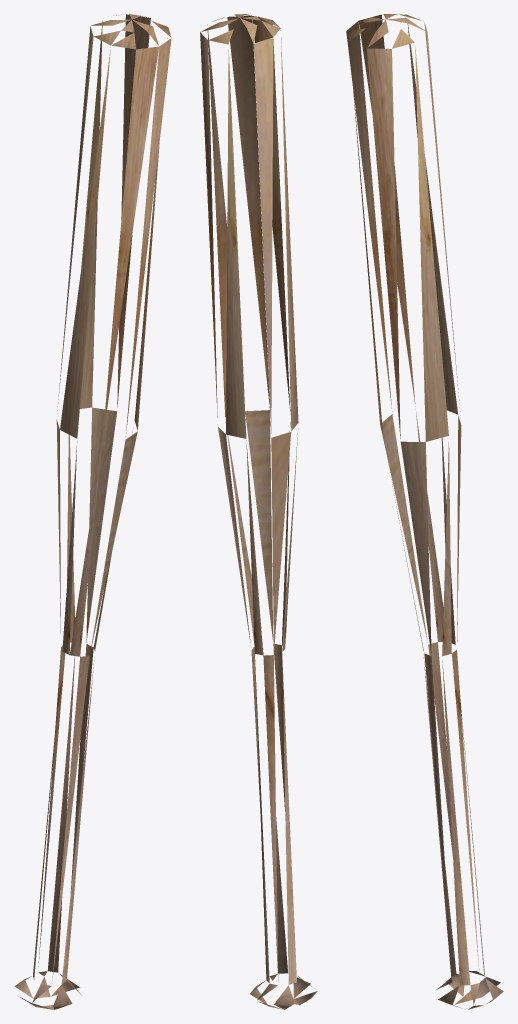
Rendered from baseball-bat.glb.
3 renders of one model, left to right at view 1: azimuth 90°, elevation 25°; view 2: azimuth 210°, elevation 25°; view 3: azimuth 270°, elevation 25°, orthographic. The views are drawn at different scales.
Parts seen in each view (by area): view 1: woodbat; view 2: woodbat; view 3: woodbat.
Part boxes in pixels (x1,y1,x2,y2): woodbat: (14,14,171,1009); woodbat: (200,14,317,1009); woodbat: (346,14,503,1009).
Bounding box in the file's own units: 0.0688 × 0.8898 × 0.1289.
1 material, 1 textured.
